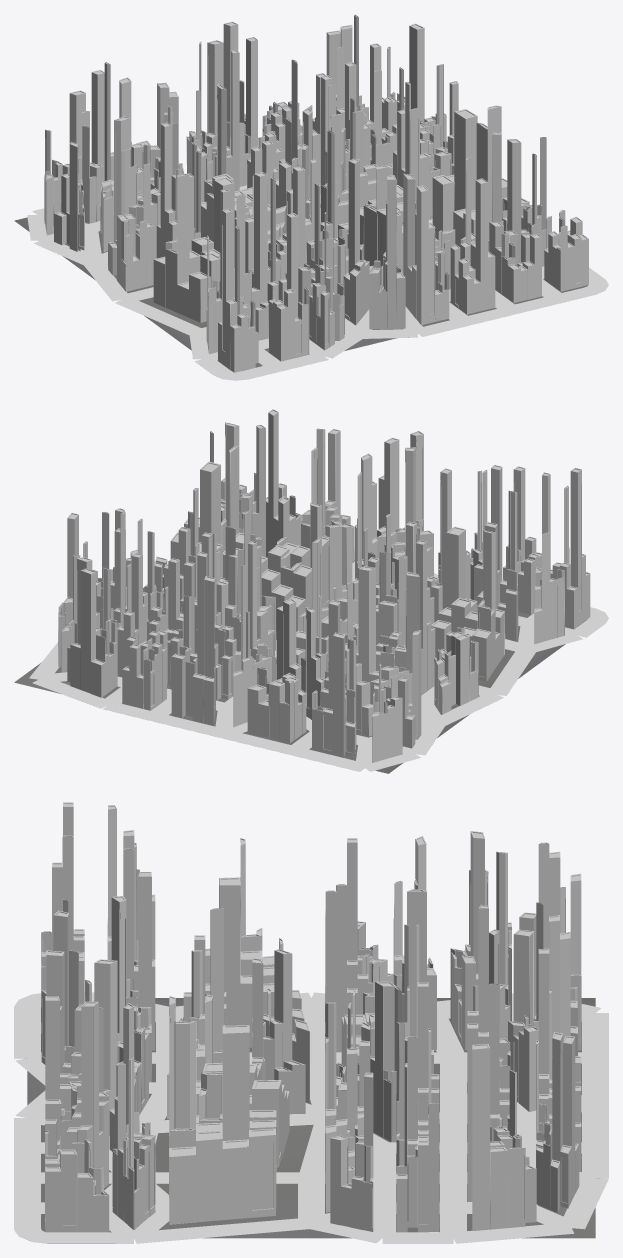
File: twilight_city.fbx
3 views of the same model, one above another, from view 1: azimuth 30°, elevation 25°; view 2: azimuth 150°, elevation 25°; view 3: azimuth 270°, elevation 25° (orthographic). The views are drawn at different scales.
Visible parts, largest first — view 1: CyberScape Pro 2.2; view 2: CyberScape Pro 2.2; view 3: CyberScape Pro 2.2.
Boxes of the visible parts, x1=… form: CyberScape Pro 2.2: x1=14, y1=14, x2=608, y2=380; CyberScape Pro 2.2: x1=14, y1=409, x2=608, y2=773; CyberScape Pro 2.2: x1=14, y1=802, x2=608, y2=1243.
Bounding box in the file's own units: 154338 × 59975 × 154338.
4 materials, 1 textured.
